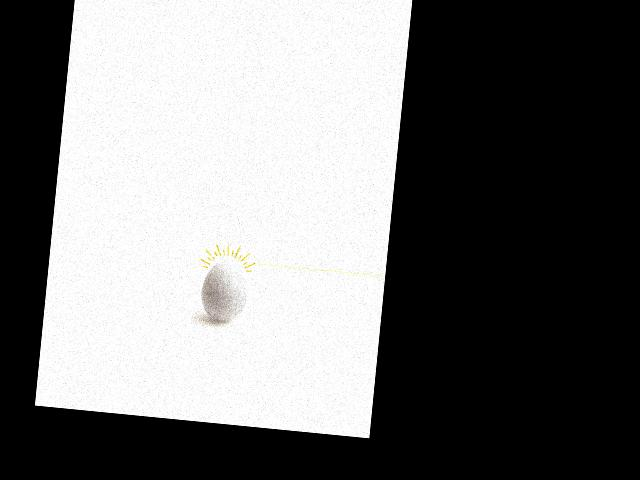egg: (199, 258, 251, 322)
